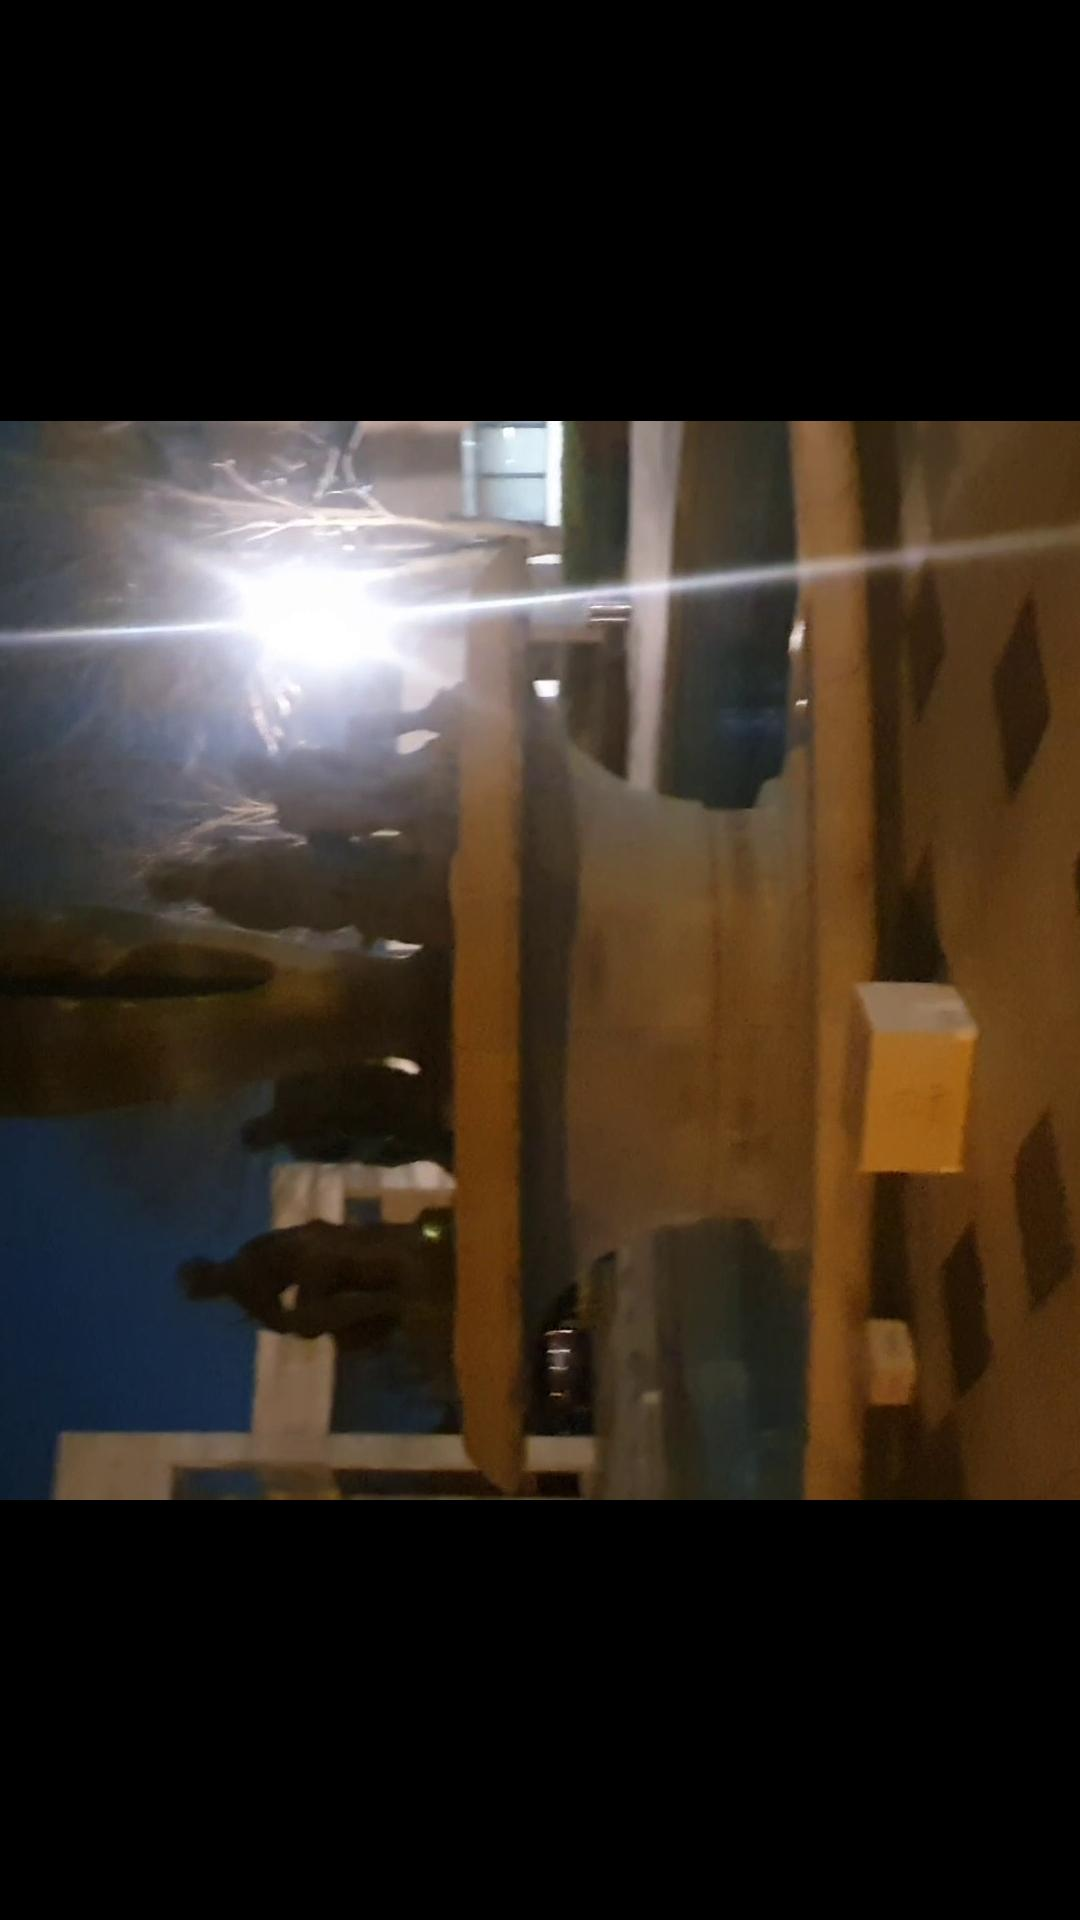Box: (829, 986, 1000, 1184), (848, 1300, 934, 1418)
